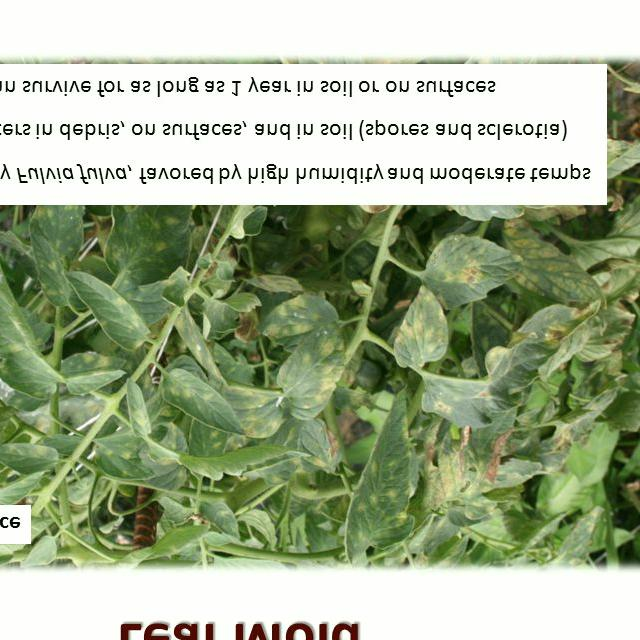Tomato mold leaf: (445, 304, 594, 423), (334, 385, 412, 559), (163, 366, 298, 446), (500, 225, 606, 322), (0, 208, 52, 398), (423, 231, 530, 312), (63, 265, 152, 352), (275, 328, 346, 422), (386, 278, 452, 371), (26, 208, 81, 308), (94, 432, 160, 483), (58, 359, 130, 397), (0, 440, 65, 473), (127, 378, 153, 438)
